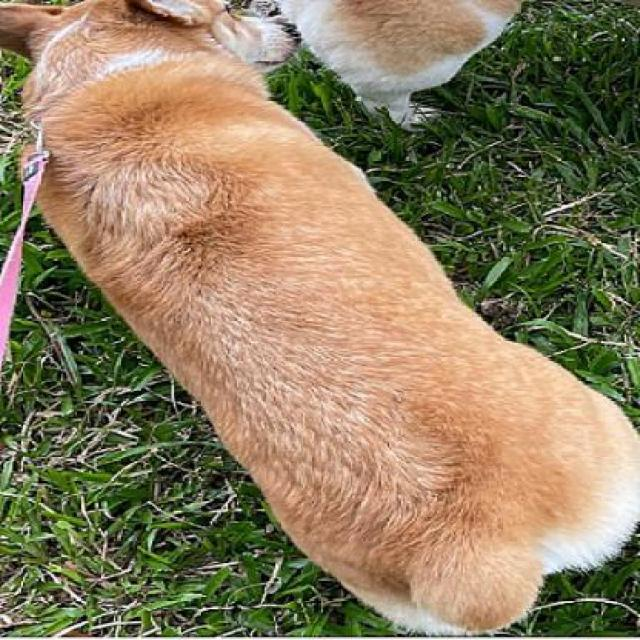Dog: (4, 4, 638, 638)
